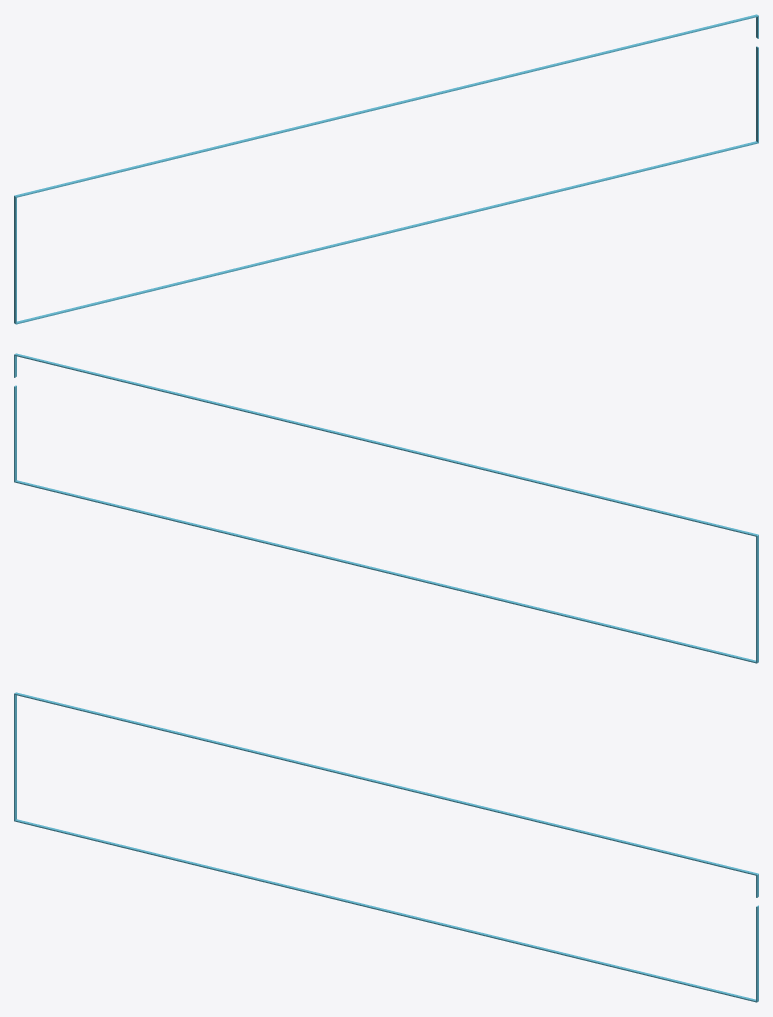
The model's file is title-frame.gltf.
3 renders of one model, top to bottom at view 1: azimuth 30°, elevation 25°; view 2: azimuth 150°, elevation 25°; view 3: azimuth 330°, elevation 25°, orthographic.
Parts seen in each view (by area): view 1: Path, キャップ 1; view 2: Path, キャップ 2; view 3: Path, キャップ 1.
Part boxes in pixels (x1=…): Path: x1=14, y1=14, x2=758, y2=323; キャップ 1: x1=15, y1=15, x2=758, y2=324; Path: x1=14, y1=353, x2=758, y2=662; キャップ 2: x1=14, y1=354, x2=757, y2=663; Path: x1=14, y1=692, x2=758, y2=1001; キャップ 1: x1=14, y1=693, x2=757, y2=1002.
Size of the model in its own units: 4.97 by 0.8168 by 0.02.
